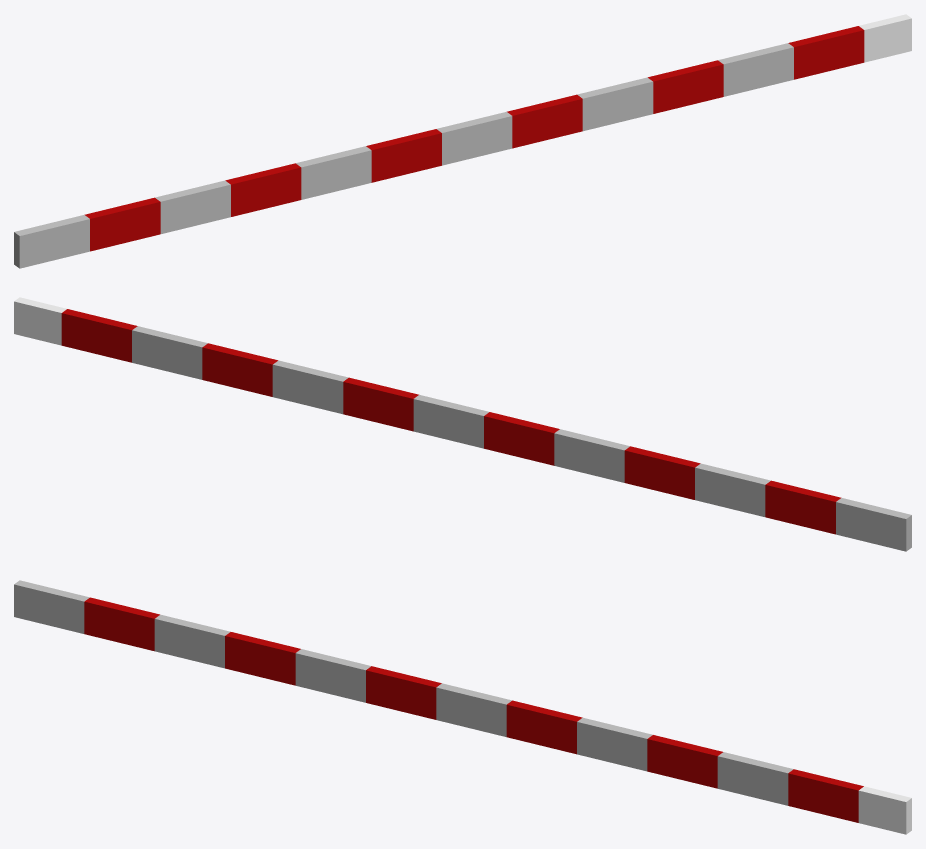
File: TrainTrafficLightBarrier_Inversed.obj
The picture shows the model from 3 angles, top to bottom: view 1: azimuth 30°, elevation 25°; view 2: azimuth 150°, elevation 25°; view 3: azimuth 330°, elevation 25°; orthographic projection.
Visible parts, largest first — view 1: Barrier.001_Plane.003; view 2: Barrier.001_Plane.003; view 3: Barrier.001_Plane.003.
Part boxes in pixels (bbox=[...]): Barrier.001_Plane.003: bbox=[14, 14, 911, 268]; Barrier.001_Plane.003: bbox=[14, 297, 911, 551]; Barrier.001_Plane.003: bbox=[14, 580, 911, 834].
Bounding box in the file's own units: 5.37 × 0.1873 × 0.0599.
